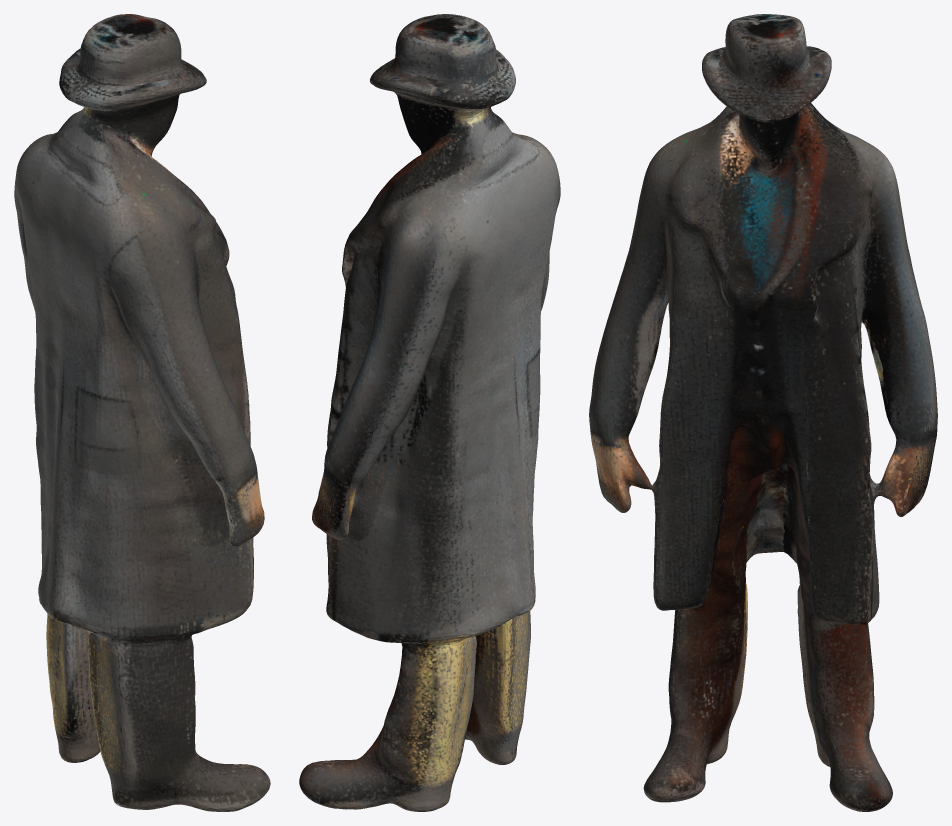
Rendered from textured_texpainter.glb.
3 renders of one model, left to right at view 1: azimuth 30°, elevation 25°; view 2: azimuth 150°, elevation 25°; view 3: azimuth 270°, elevation 25°, orthographic.
Visible parts, largest first — view 1: Node-Mesh; view 2: Node-Mesh; view 3: Node-Mesh.
Boxes of the visible parts, x1=… form: Node-Mesh: x1=14, y1=14, x2=270, y2=811; Node-Mesh: x1=299, y1=14, x2=560, y2=811; Node-Mesh: x1=589, y1=14, x2=937, y2=811.
Bounding box in the file's own units: 0.4902 × 2 × 0.8446.
1 material, 1 textured.
